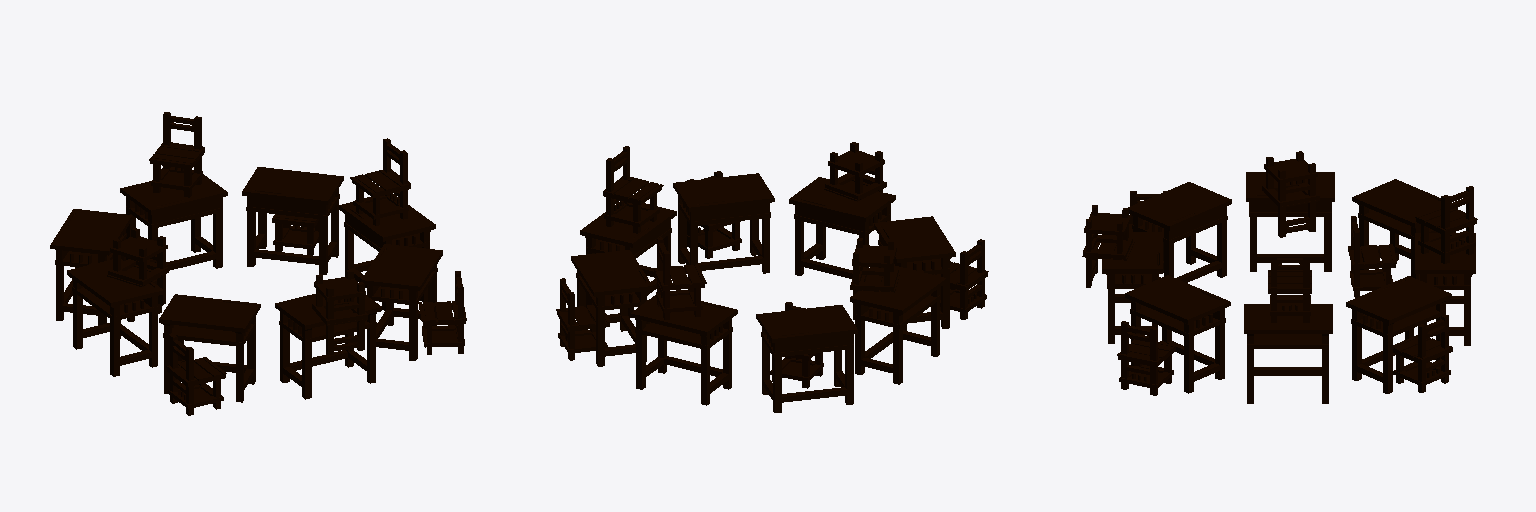
File: TableChair-OBJ.obj
The picture shows the model from 3 angles: view 1: azimuth 30°, elevation 25°; view 2: azimuth 150°, elevation 25°; view 3: azimuth 270°, elevation 25°; orthographic projection.
Visible parts, largest first — view 1: Cube.007; view 2: Cube.007; view 3: Cube.007.
Part boxes in pixels (x1,y1,x2,y2): Cube.007: (50, 112, 466, 415); Cube.007: (556, 142, 988, 412); Cube.007: (1082, 151, 1477, 403).
Bounding box in the file's own units: 12.27 × 5.18 × 12.97.